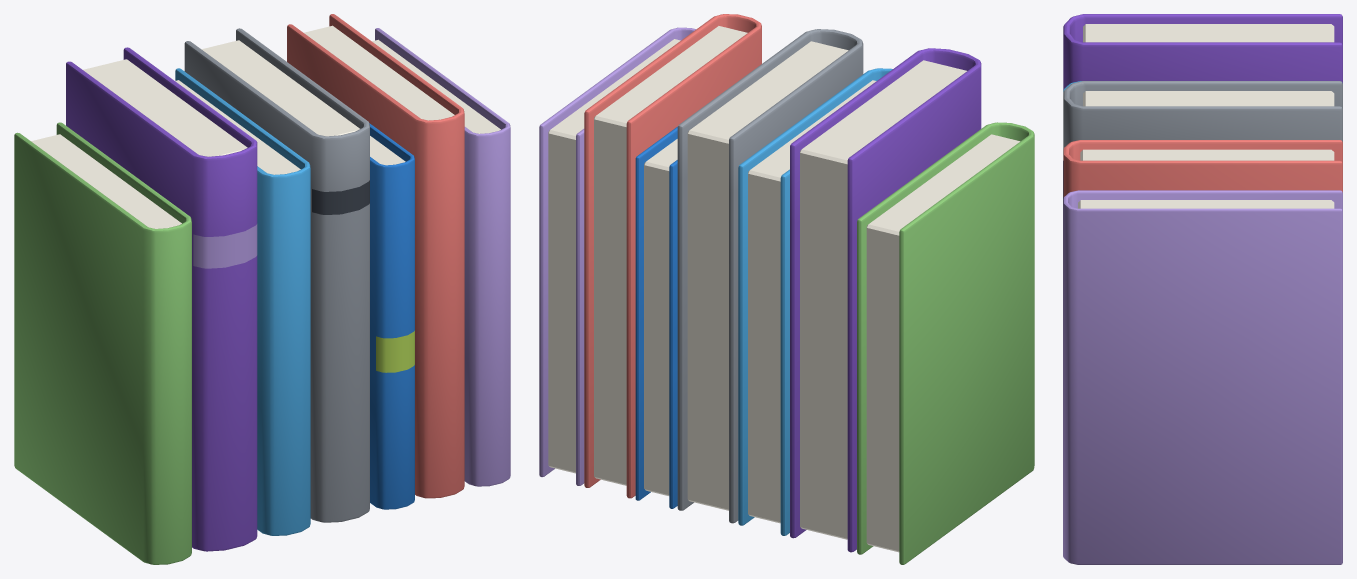
Rendered from livros_fileira_media.glb.
3 views of the same model, side by side, from view 1: azimuth 30°, elevation 25°; view 2: azimuth 150°, elevation 25°; view 3: azimuth 270°, elevation 25° (orthographic).
Parts seen in each view (by area): view 1: livros_fileira_media; view 2: livros_fileira_media; view 3: livros_fileira_media.
Part boxes in pixels (bbox=[...]): livros_fileira_media: bbox=[14, 14, 510, 564]; livros_fileira_media: bbox=[539, 14, 1034, 564]; livros_fileira_media: bbox=[1063, 14, 1342, 564].
Bounding box in the file's own units: 0.228 × 0.235 × 0.1496.
1 material, 1 textured.
